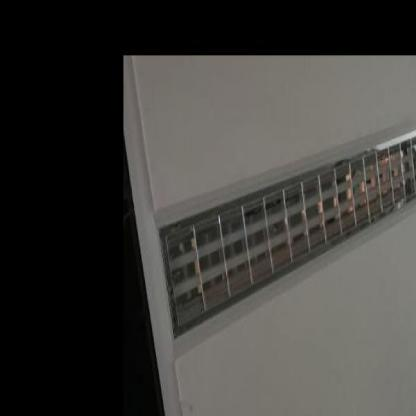light_off: (146, 103, 415, 351)
